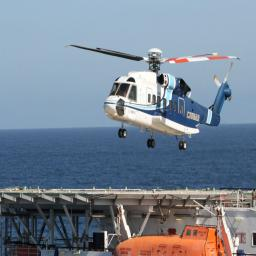helicopter: (68, 44, 241, 153)
